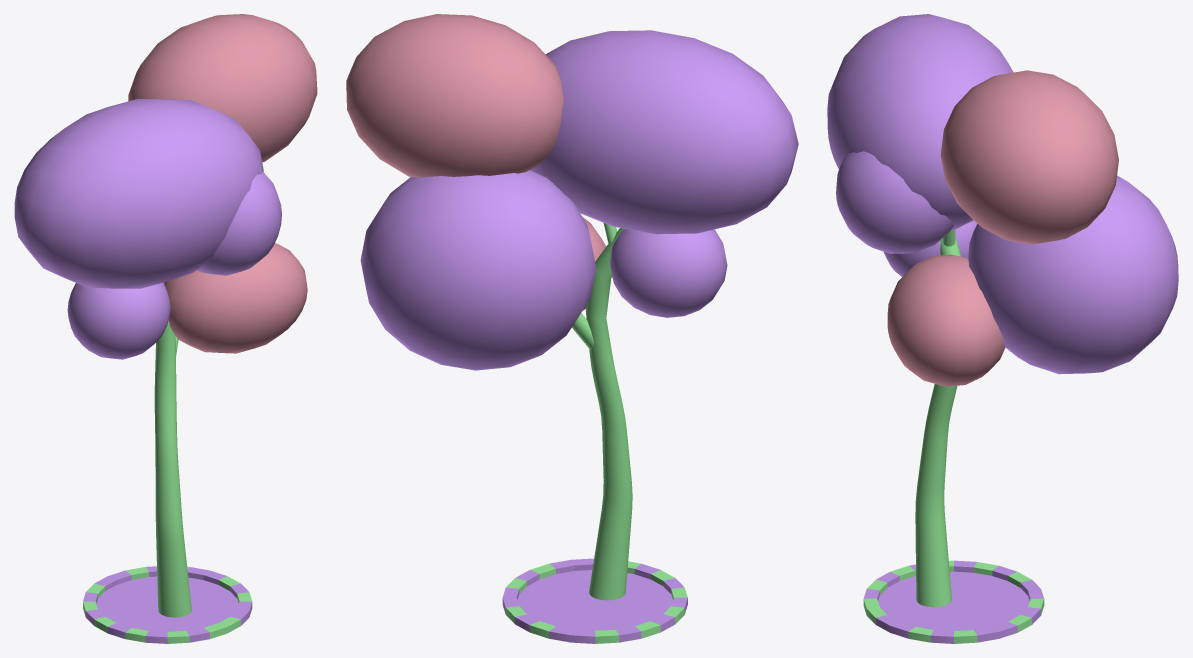
The model's file is Arbre2.FBX.
The picture shows the model from 3 angles, left to right: view 1: azimuth 30°, elevation 25°; view 2: azimuth 150°, elevation 25°; view 3: azimuth 270°, elevation 25°; orthographic projection. The views are drawn at different scales.
Visible parts, largest first — view 1: Arbre002, Ilot; view 2: Arbre002, Ilot; view 3: Arbre002, Ilot.
Boxes of the visible parts, left/top/right/bottom form: Arbre002: left=14, top=14, right=317, bottom=617; Ilot: left=83, top=566, right=252, bottom=643; Arbre002: left=346, top=14, right=798, bottom=600; Ilot: left=502, top=558, right=687, bottom=643; Arbre002: left=827, top=14, right=1178, bottom=607; Ilot: left=863, top=560, right=1044, bottom=643.
Bounding box in the file's own units: 20.86 × 31.27 × 17.49.
